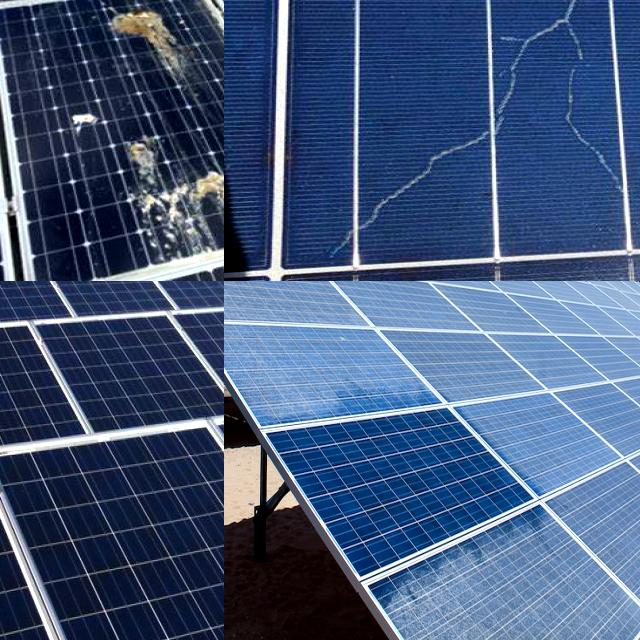bird: (119, 136, 224, 252), (90, 8, 202, 78), (89, 0, 171, 25), (12, 0, 85, 21), (56, 109, 116, 132), (0, 0, 53, 18)
crack: (0, 448, 224, 640), (0, 445, 202, 640), (20, 295, 224, 457), (0, 317, 120, 473), (0, 334, 81, 489), (170, 297, 224, 432)
dust: (244, 331, 416, 407), (385, 586, 595, 640), (524, 281, 609, 368), (472, 392, 622, 440), (369, 281, 495, 328), (458, 544, 574, 587), (560, 497, 640, 547), (224, 281, 322, 311), (224, 309, 257, 392), (601, 545, 640, 591), (224, 281, 292, 306), (298, 281, 365, 296)
shadow: (321, 0, 627, 259)
